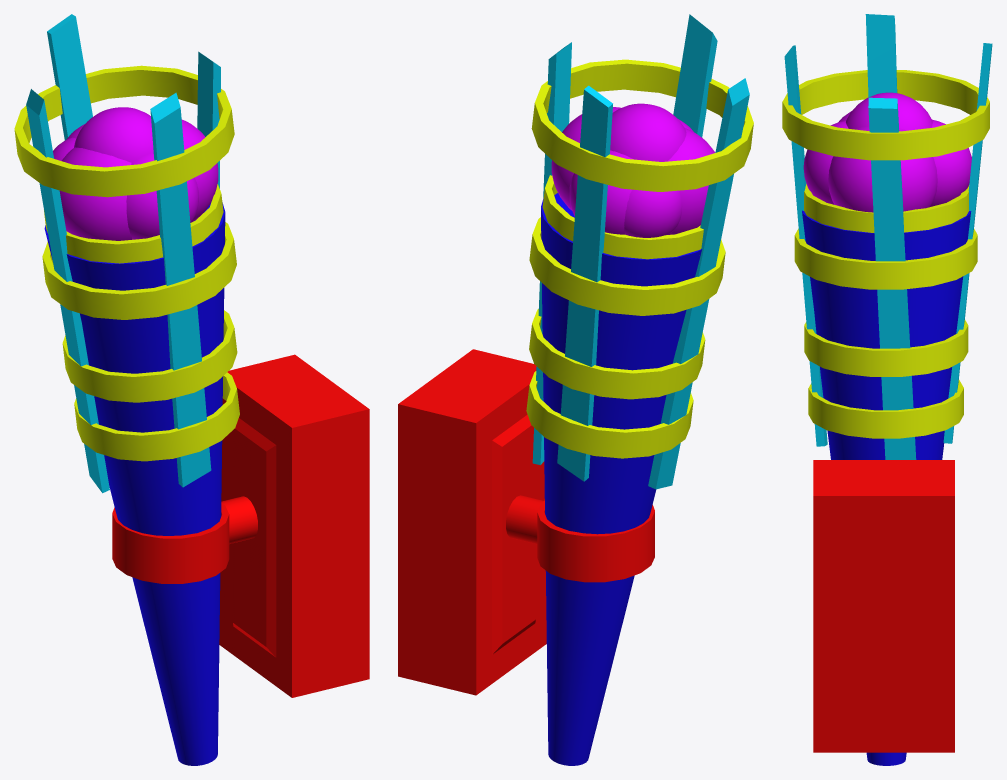
File: TorchID.fbx
3 renders of one model, left to right at view 1: azimuth 30°, elevation 25°; view 2: azimuth 150°, elevation 25°; view 3: azimuth 270°, elevation 25°, orthographic. The views are drawn at different scales.
Parts seen in each view (by area): view 1: Box050; view 2: Box050; view 3: Box050.
Part boxes in pixels (<box>): Box050: <box>14,14,369,765</box>; Box050: <box>398,14,753,765</box>; Box050: <box>782,14,992,765</box>.
Size of the model in its own units: 9.22 by 5.84 by 21.04.
